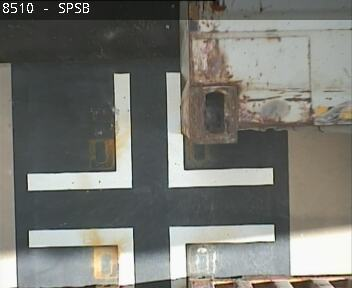groundmarker_1: (28, 71, 274, 194), (28, 222, 274, 288)
